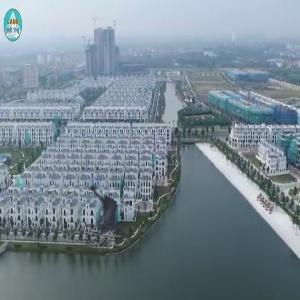drone: (65, 172, 139, 246)
